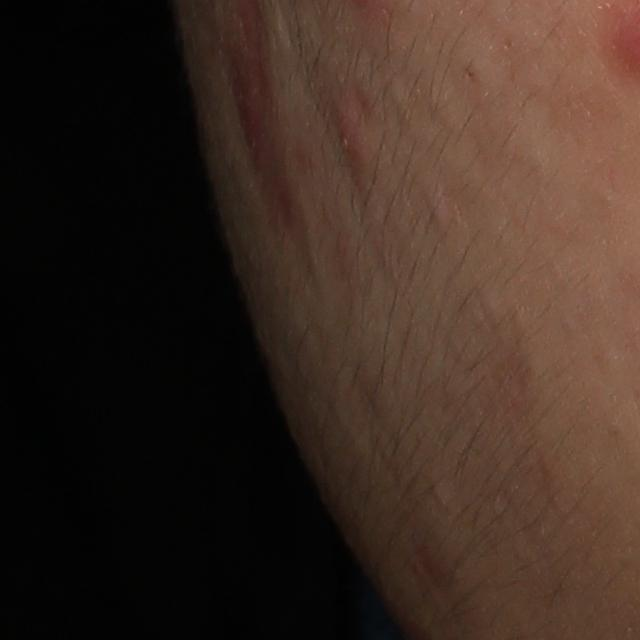papule: (329, 98, 370, 175)
